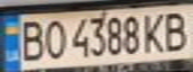3: (87, 14, 109, 57)
4: (69, 15, 90, 60)
8: (103, 12, 127, 56), (121, 12, 142, 56)
B: (15, 17, 48, 62), (160, 8, 193, 52)
K: (139, 10, 169, 54)
O: (39, 17, 69, 61)
